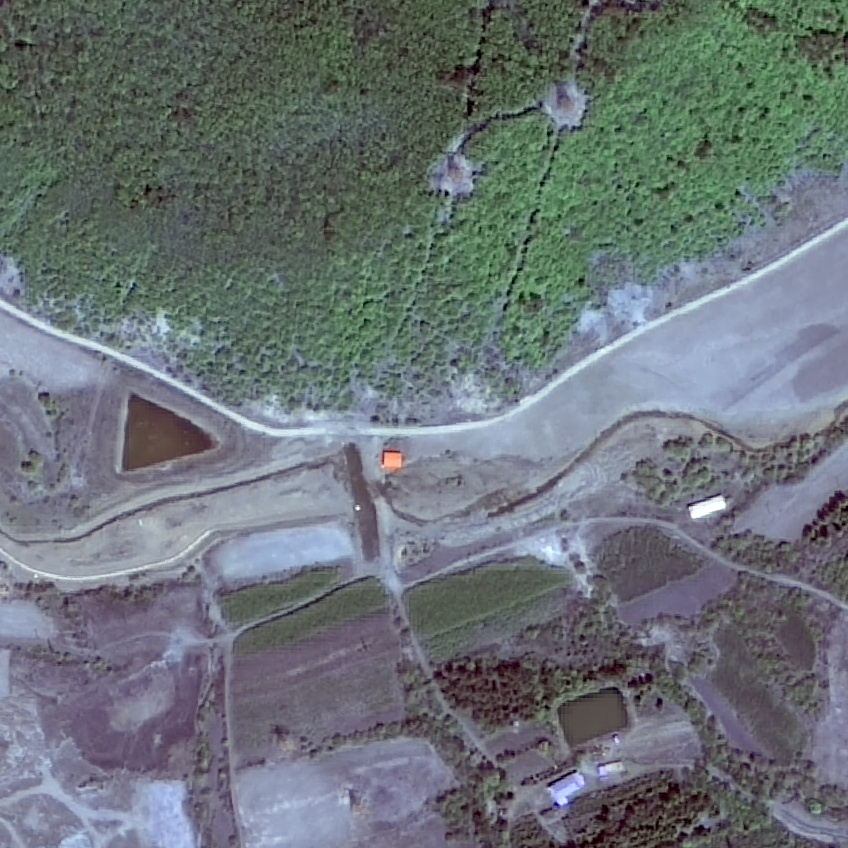slope: (545, 164, 847, 372), (423, 145, 492, 199), (532, 75, 590, 130)
